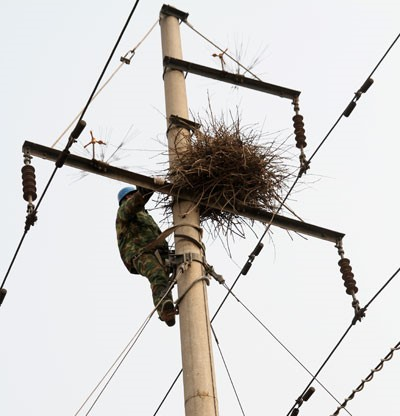niaowo: (168, 121, 287, 217)
